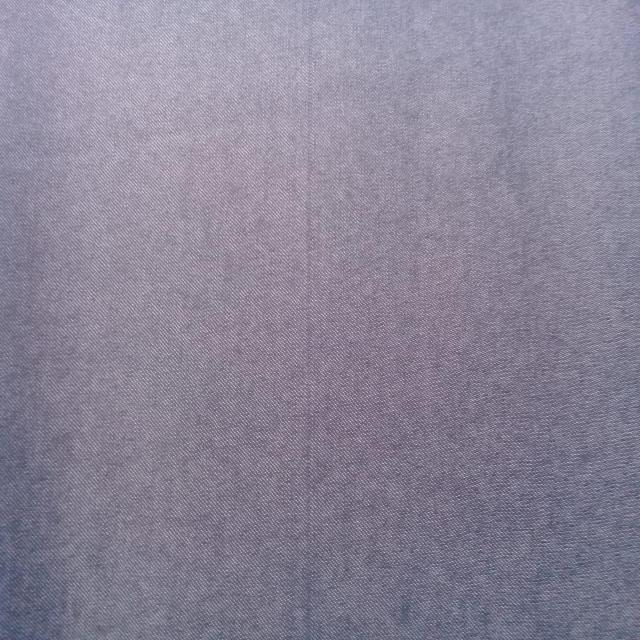Line: (303, 0, 313, 640)
